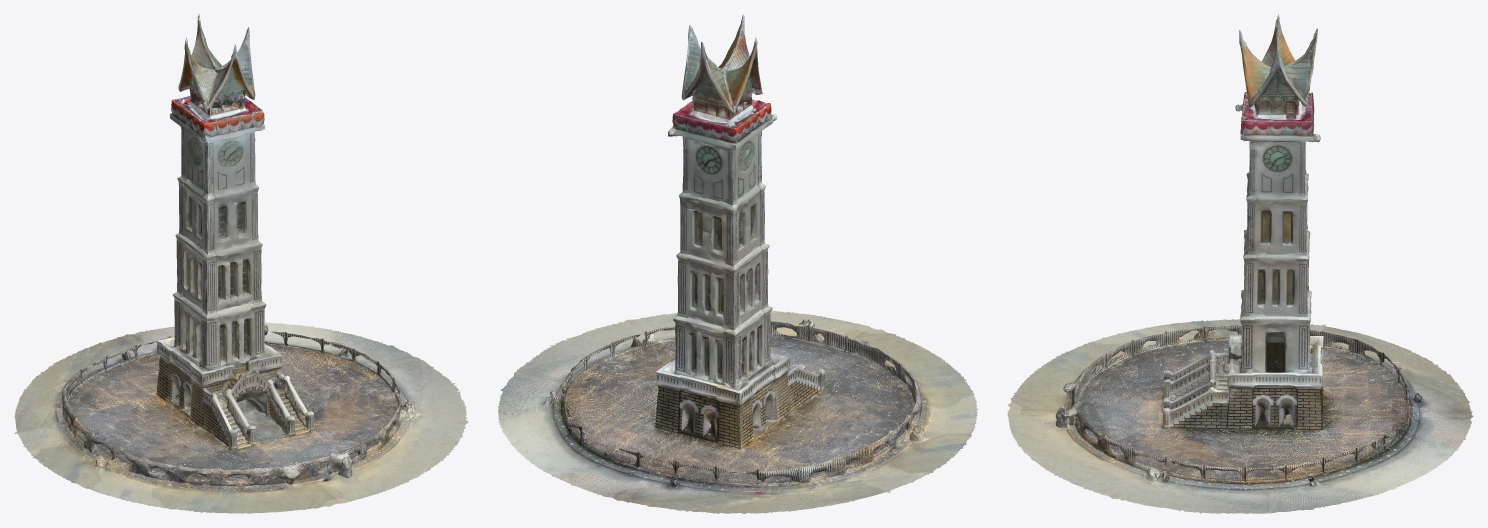
Rendered from jam-gadang.glb.
The picture shows the model from 3 angles, left to right: view 1: azimuth 30°, elevation 25°; view 2: azimuth 150°, elevation 25°; view 3: azimuth 270°, elevation 25°; orthographic projection. The views are drawn at different scales.
Parts seen in each view (by area): view 1: Object_3, Object_4, Object_2; view 2: Object_2, Object_3, Object_4; view 3: Object_2, Object_3, Object_4.
Boxes of the visible parts, x1,y1,x2,y2 form: Object_3: (14, 17, 405, 513); Object_4: (54, 14, 457, 508); Object_2: (14, 31, 468, 491); Object_2: (497, 37, 929, 498); Object_3: (563, 42, 972, 513); Object_4: (551, 14, 978, 500); Object_2: (1034, 14, 1471, 513); Object_3: (1011, 22, 1473, 475); Object_4: (1007, 28, 1408, 486).
Bounding box in the file's own units: 20.72 × 19.17 × 20.78.
3 materials, 3 textured.
